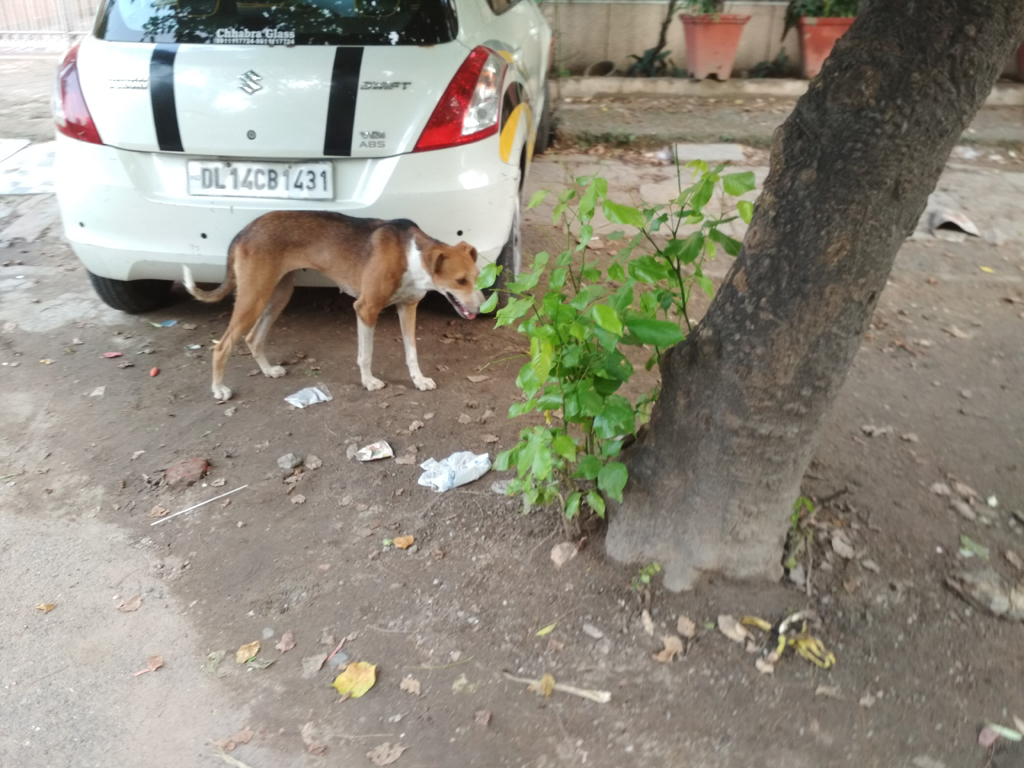dog: (182, 211, 488, 402)
